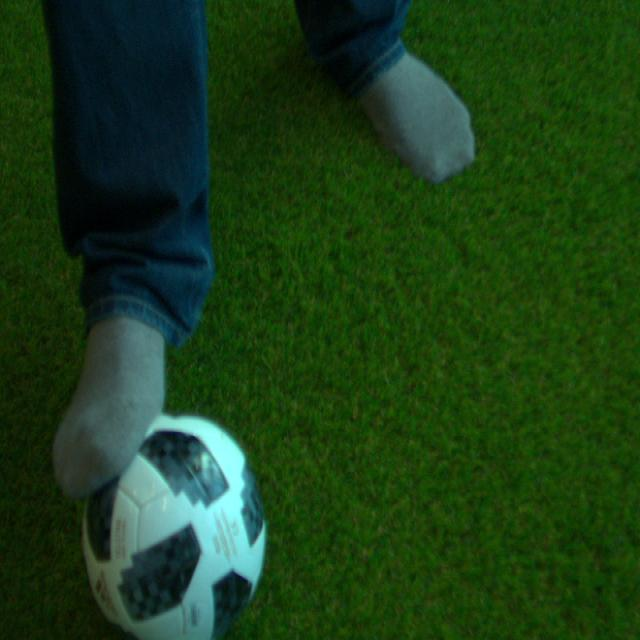ball: (78, 410, 269, 640)
